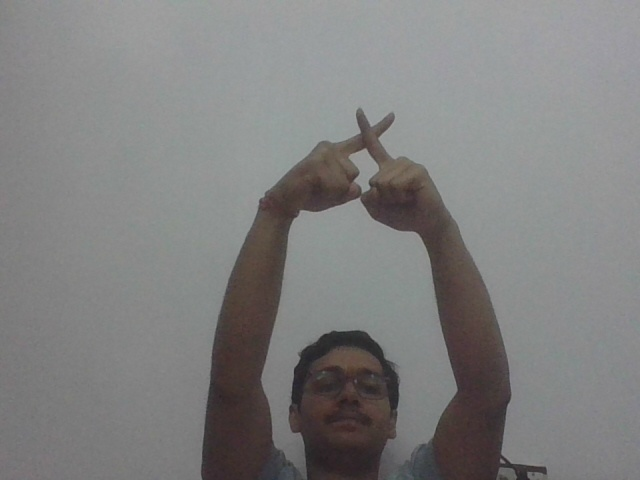X: (296, 106, 434, 232)
